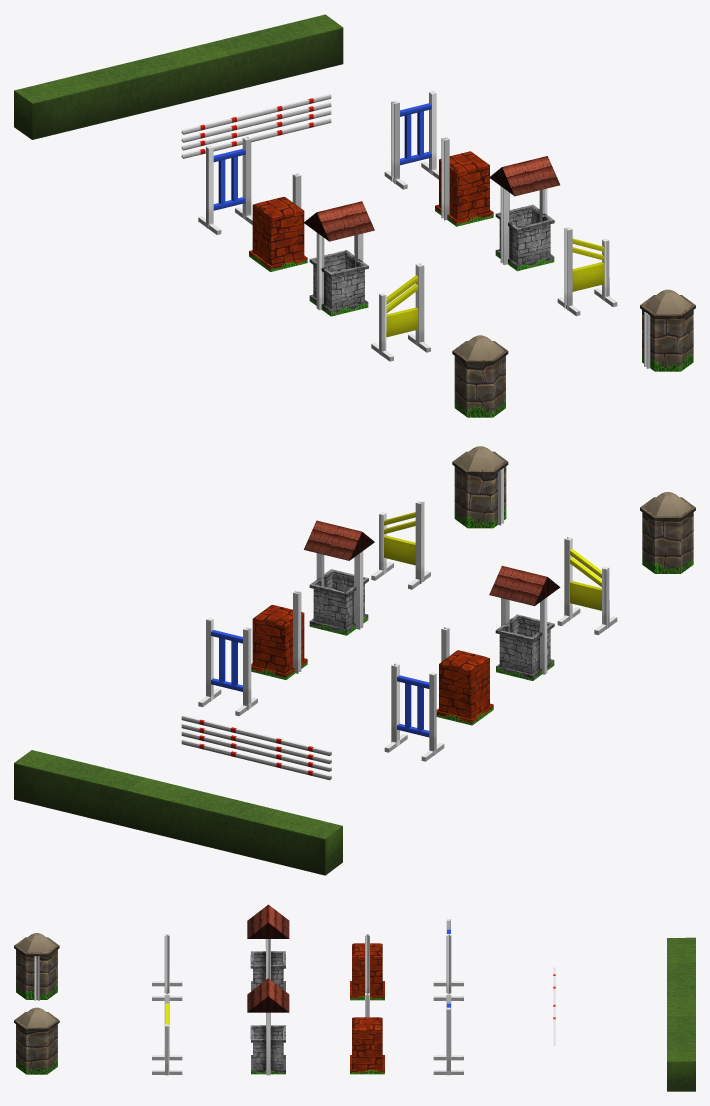
File: horsejumps.fbx
The picture shows the model from 3 angles, top to bottom: view 1: azimuth 30°, elevation 25°; view 2: azimuth 150°, elevation 25°; view 3: azimuth 270°, elevation 25°; orthographic projection. The views are drawn at different scales.
Visible parts, largest first — view 1: Plane.007, Plane.005, Plane.008, Plane.004, Plane.003, Plane.006, Plane.002; view 2: Plane.007, Plane.005, Plane.008, Plane.004, Plane.003, Plane.006, Plane.002; view 3: Plane.005, Plane.008, Plane.007, Plane.004, Plane.003, Plane.006.
Boxes of the visible parts, box(x1,y1,x2,y2) form: Plane.007: box(14, 14, 343, 139); Plane.005: box(304, 156, 559, 316); Plane.008: box(452, 289, 695, 417); Plane.004: box(249, 137, 493, 271); Plane.003: box(198, 91, 438, 234); Plane.006: box(371, 227, 617, 361); Plane.002: box(181, 94, 331, 158); Plane.007: box(14, 750, 342, 875); Plane.005: box(304, 520, 560, 680); Plane.008: box(452, 446, 695, 573); Plane.004: box(251, 590, 493, 725); Plane.003: box(198, 618, 444, 761); Plane.006: box(371, 500, 617, 635); Plane.002: box(181, 715, 331, 780); Plane.005: box(247, 904, 289, 1075); Plane.008: box(14, 933, 59, 1074); Plane.007: box(667, 937, 695, 1091); Plane.004: box(350, 934, 384, 1074); Plane.003: box(433, 919, 463, 1075); Plane.006: box(152, 934, 182, 1075).
Bounding box in the file's own units: 1395 × 417 × 3246.
1 material, 1 textured.
